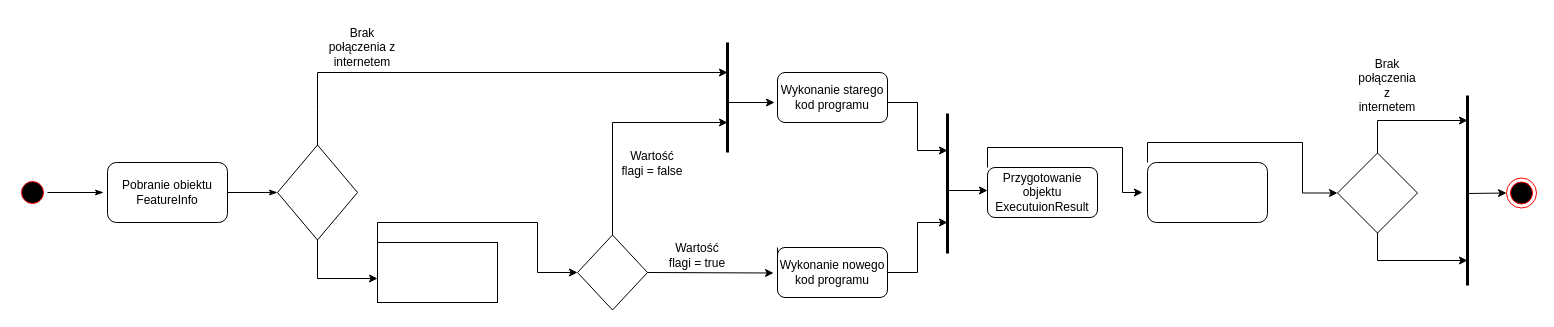
Some shapes in this 1554 by 327 pixel diagram are drawn without their labels. Here are the shapes that lost their labels. From the top down, the centre of each, then its label:
the point at 1207,192: Wysłanie objektu do serwisu Beheer
the point at 437,272: Przetworzenie objektu FeatureInfo
